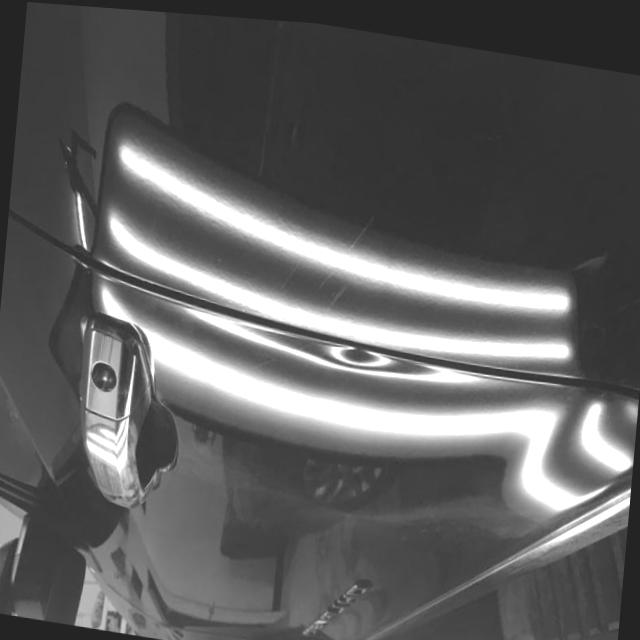PDR-Dent: (241, 311, 444, 394)
